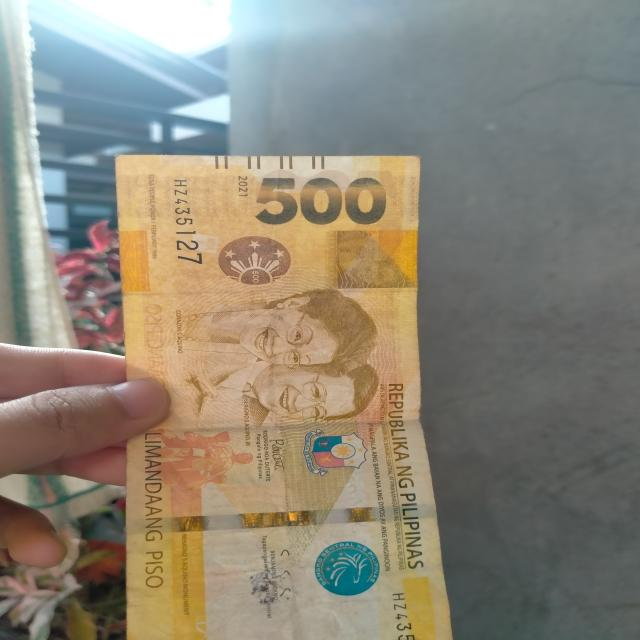concealed_value: (333, 227, 423, 290)
optically_variable_device: (199, 223, 298, 292)
security_thread: (127, 502, 439, 533)
